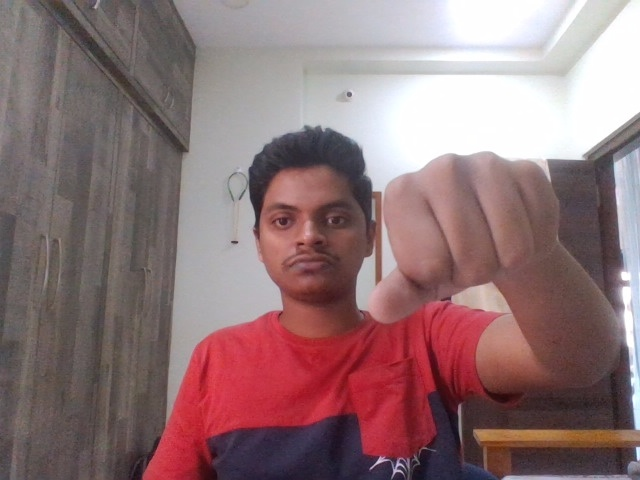Yes: (341, 122, 593, 346)
